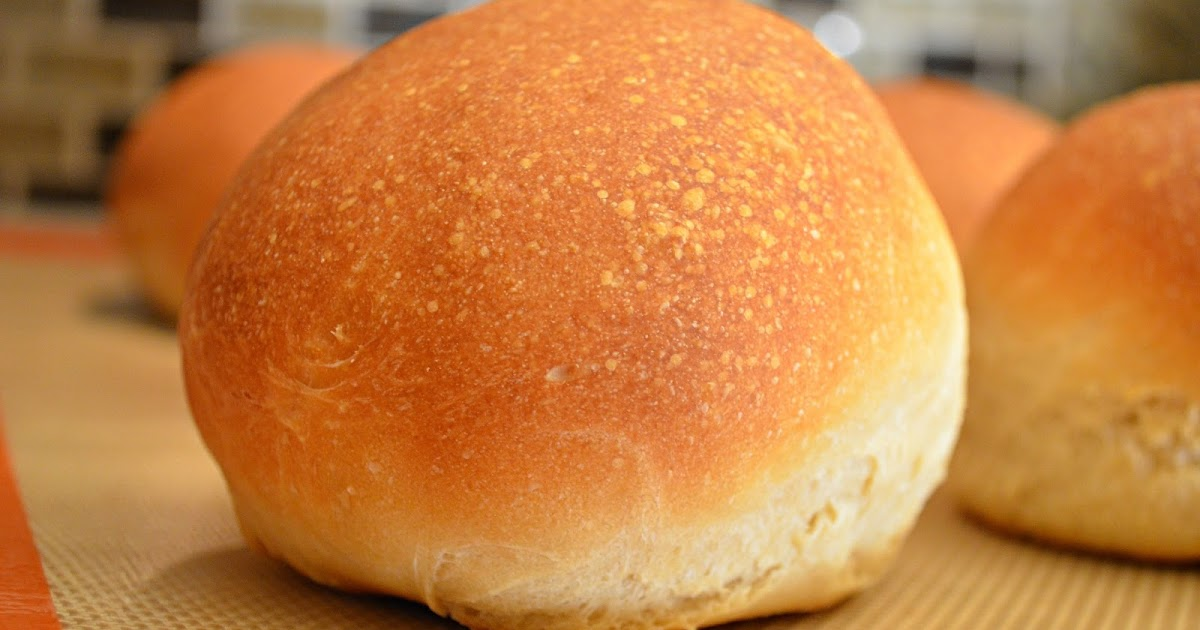hamburger_buns: (184, 15, 966, 607)
